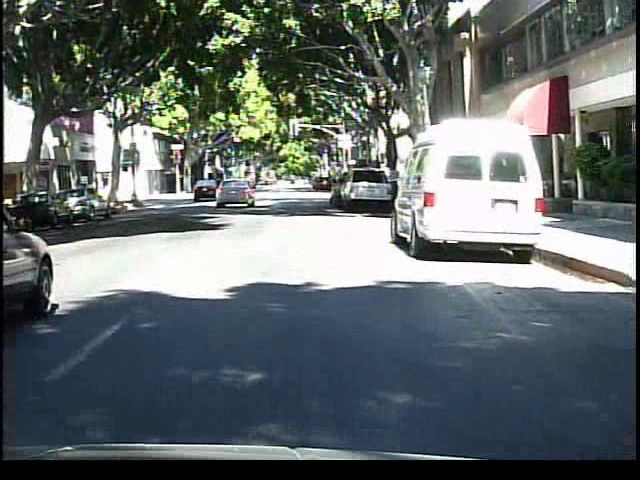person: (232, 171, 253, 206)
